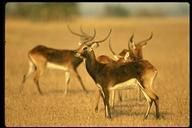antelope: (76, 29, 166, 121), (17, 24, 97, 95)
grass: (7, 95, 75, 125)
